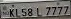character: (50, 5, 57, 16), (62, 5, 69, 16), (56, 5, 63, 15), (36, 6, 42, 17), (44, 5, 50, 15), (8, 7, 14, 16), (14, 8, 20, 17), (21, 7, 27, 16), (27, 7, 33, 16)
